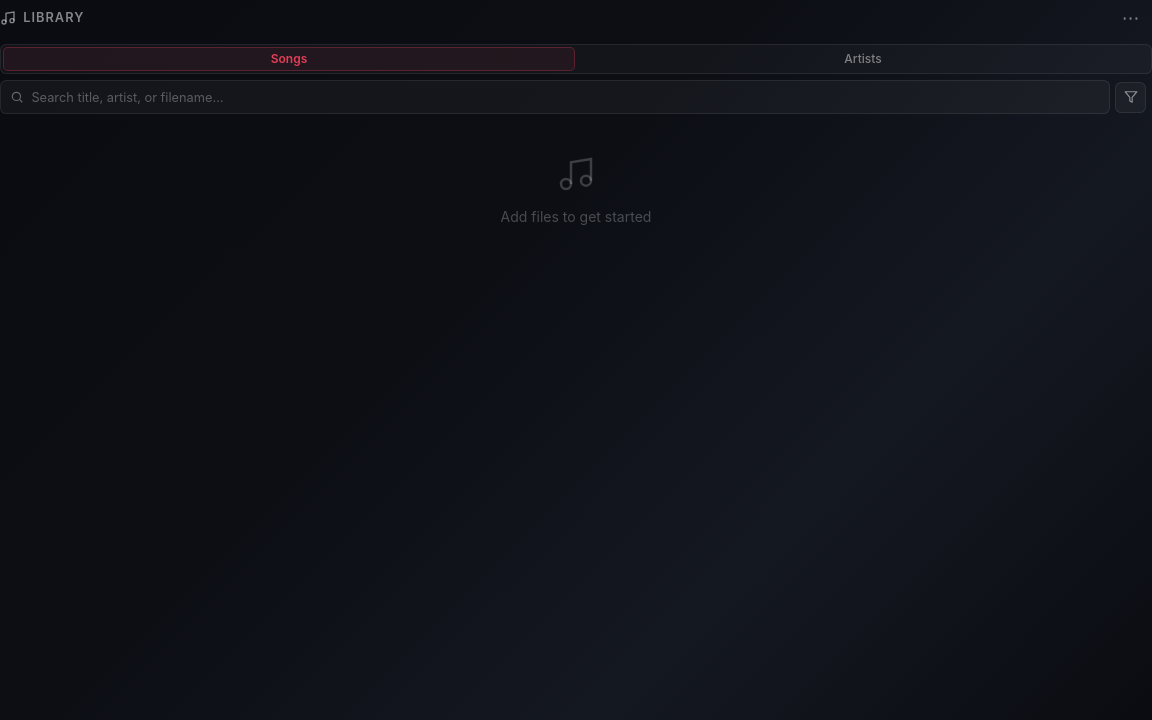
Test case: the 'library-menu' seam › mounts the picked item in a modal, with its title, only once picked
Click the button with class "lib-menu__btn" at point(1131, 18), box [1116,3,1146,33]
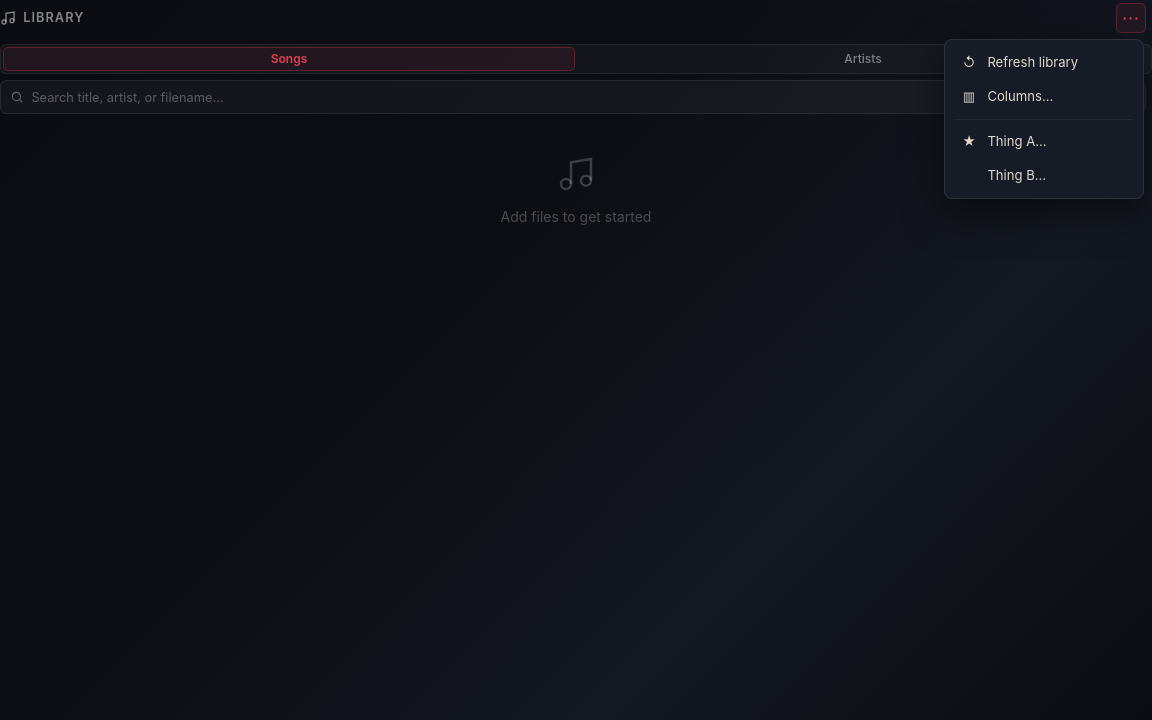
Click the menu item "★ Thing A…" at point(1044, 141), box [951,124,1137,158]
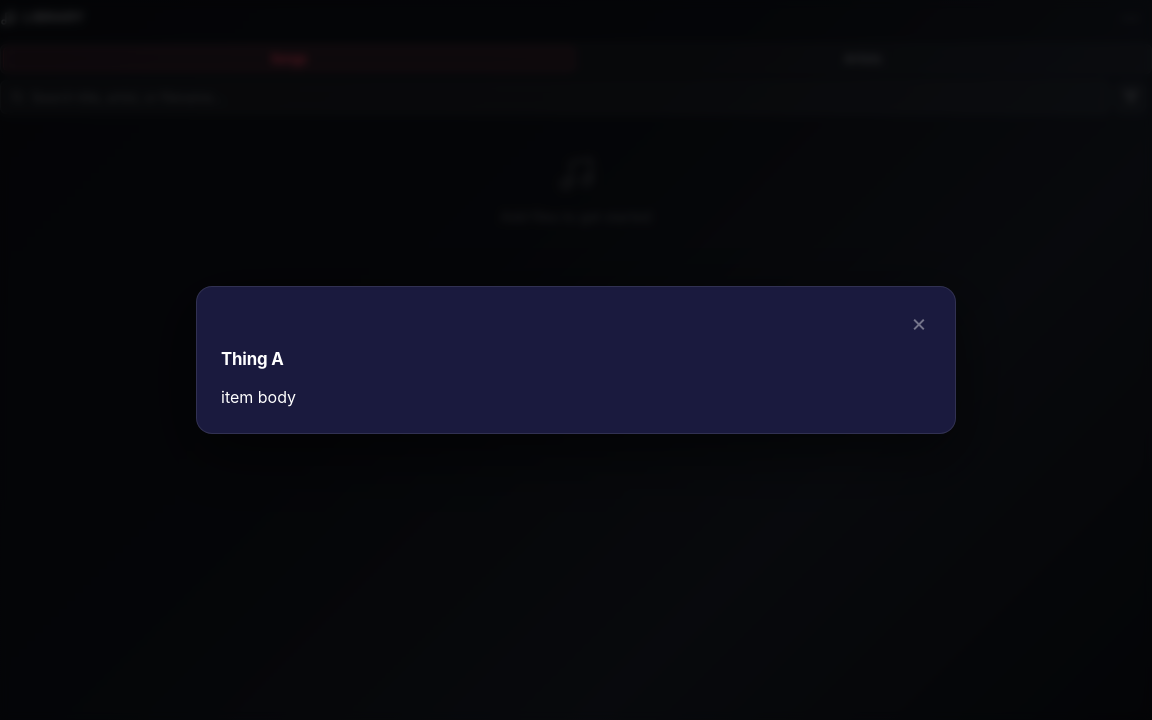
Now the heading with class "lib-item-modal__title" reads "Thing A", box [221,349,284,369]
Now the text "item body" is shown, box [221,387,296,407]
